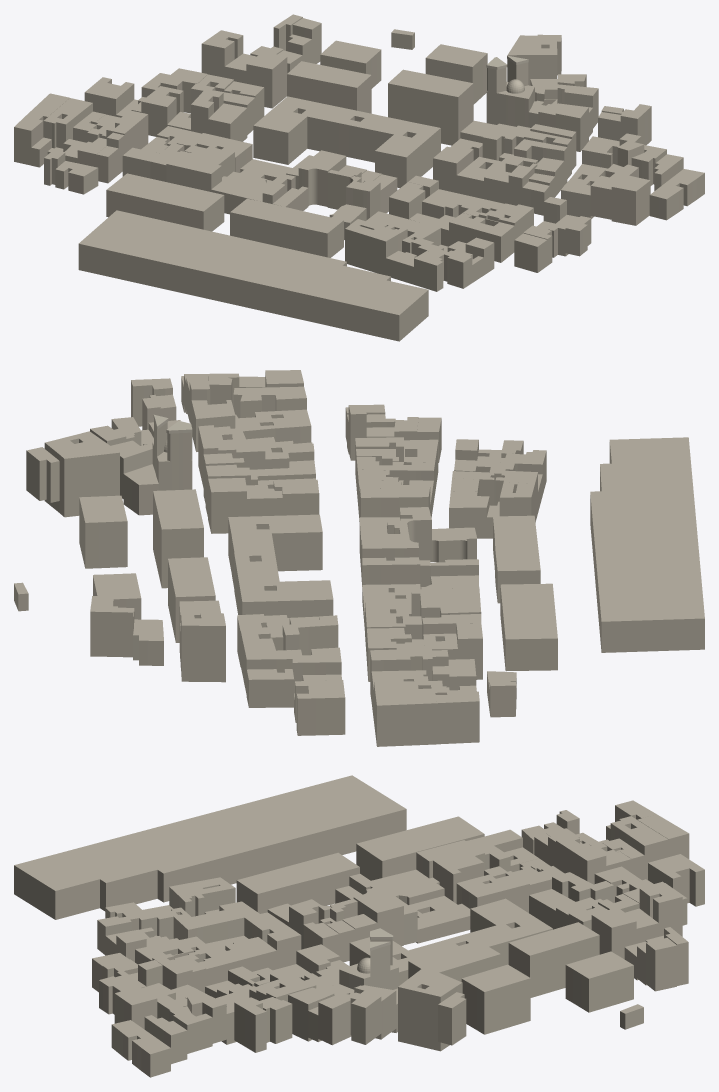
Rendered from senglea_58_26_mid.glb.
3 renders of one model, top to bottom at view 1: azimuth 30°, elevation 25°; view 2: azimuth 150°, elevation 25°; view 3: azimuth 270°, elevation 25°, orthographic. The views are drawn at different scales.
Parts seen in each view (by area): view 1: geometry_0; view 2: geometry_0; view 3: geometry_0.
Part boxes in pixels (box(x1,y1,x2,y2)): geometry_0: box(14, 14, 704, 341); geometry_0: box(14, 370, 704, 746); geometry_0: box(14, 775, 704, 1077).
Size of the model in its own units: 215 by 36.33 by 219.
